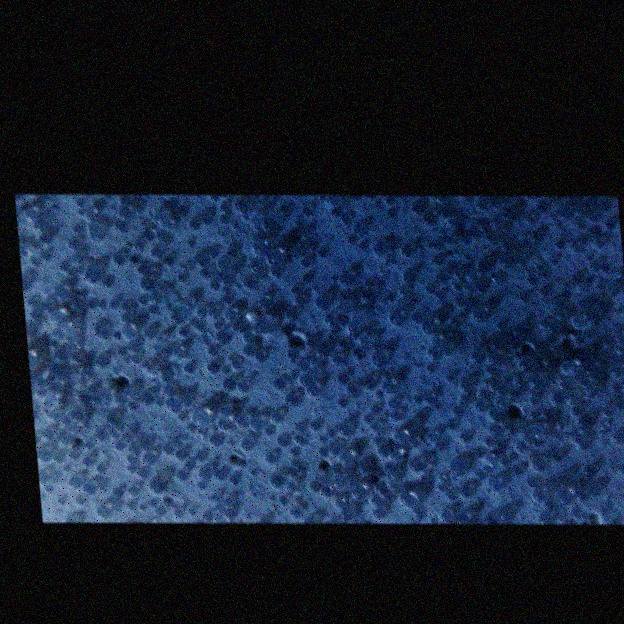GrassBeadSeg: (38, 199, 603, 495), (100, 239, 589, 510), (127, 255, 598, 524), (182, 221, 527, 500), (67, 239, 581, 416), (127, 256, 502, 489), (155, 233, 452, 520), (232, 221, 612, 445), (198, 203, 545, 447), (138, 236, 528, 453), (218, 202, 623, 410), (66, 299, 478, 502), (209, 194, 546, 440), (329, 243, 623, 519), (115, 254, 467, 476), (163, 208, 623, 377), (70, 225, 435, 433), (357, 194, 623, 476), (220, 309, 565, 524), (160, 255, 623, 403), (116, 212, 389, 458), (316, 240, 563, 508), (135, 265, 581, 413), (149, 219, 456, 429), (56, 268, 332, 497), (241, 277, 539, 488), (156, 306, 450, 511), (113, 366, 595, 488), (110, 256, 483, 412), (194, 254, 455, 476), (173, 351, 512, 521), (382, 198, 610, 448), (69, 216, 450, 363), (84, 209, 598, 317), (295, 194, 597, 377), (254, 240, 526, 438), (148, 277, 423, 472), (412, 242, 623, 491), (225, 250, 551, 410), (410, 203, 586, 496), (276, 267, 503, 490), (203, 248, 400, 498), (133, 201, 507, 329), (270, 289, 522, 476), (408, 223, 614, 447), (221, 351, 544, 493), (347, 328, 620, 494), (224, 315, 565, 447), (49, 312, 623, 390), (67, 384, 467, 489), (235, 214, 436, 421), (50, 260, 556, 339), (359, 325, 592, 496), (182, 215, 437, 369), (155, 199, 339, 407), (138, 215, 551, 304), (337, 214, 502, 436), (171, 299, 622, 378), (208, 299, 354, 520), (136, 394, 515, 479), (328, 207, 425, 520), (216, 273, 614, 349), (230, 275, 534, 371), (324, 195, 605, 291), (385, 210, 524, 403), (175, 207, 318, 393), (218, 216, 500, 305), (95, 222, 306, 338), (268, 377, 472, 496), (376, 380, 545, 518), (67, 203, 548, 251), (147, 386, 358, 494), (210, 437, 546, 502), (155, 250, 273, 435), (104, 228, 479, 286), (486, 236, 592, 439), (137, 277, 300, 407), (77, 208, 604, 248), (382, 275, 576, 379), (182, 236, 453, 310), (252, 319, 578, 376), (241, 272, 448, 360), (313, 240, 565, 310), (152, 243, 313, 351), (191, 210, 353, 315), (65, 293, 505, 330), (340, 405, 468, 523), (351, 219, 528, 302), (40, 220, 305, 275), (66, 300, 361, 348), (93, 429, 293, 497), (371, 402, 486, 519), (90, 209, 181, 352), (206, 309, 299, 444), (399, 246, 496, 375), (452, 296, 553, 419), (82, 254, 599, 278), (474, 284, 549, 445), (195, 456, 559, 488), (237, 415, 368, 499), (41, 376, 208, 440), (373, 406, 610, 451), (406, 350, 481, 490), (110, 306, 160, 498), (241, 416, 343, 507), (397, 401, 497, 493), (438, 343, 533, 438), (119, 221, 209, 320), (223, 330, 370, 390), (383, 449, 490, 523), (469, 380, 584, 448), (400, 272, 537, 329), (82, 242, 268, 283), (370, 297, 409, 492), (66, 206, 173, 276), (246, 207, 369, 264), (338, 274, 396, 394), (436, 278, 484, 417), (366, 198, 493, 249), (96, 439, 180, 516), (269, 410, 351, 487), (542, 380, 590, 511), (423, 285, 520, 349), (129, 344, 203, 427), (563, 340, 623, 437), (82, 209, 135, 312), (304, 374, 401, 430), (279, 325, 324, 444), (574, 317, 600, 502), (96, 367, 185, 420), (511, 427, 571, 505), (288, 450, 355, 517), (426, 285, 470, 387), (258, 319, 526, 335), (229, 458, 320, 505), (284, 315, 346, 383), (36, 433, 95, 504), (300, 208, 395, 251), (184, 429, 237, 501), (53, 348, 129, 396), (371, 437, 448, 483), (124, 452, 204, 496), (243, 421, 297, 486), (142, 330, 194, 394), (262, 219, 349, 257), (293, 309, 487, 326), (203, 330, 224, 487), (109, 385, 191, 425), (30, 305, 83, 366), (579, 409, 609, 514), (335, 448, 391, 501), (299, 246, 370, 287), (81, 464, 135, 517), (288, 314, 343, 366), (154, 329, 217, 374), (54, 293, 129, 330), (155, 319, 208, 371), (62, 442, 153, 472), (436, 452, 507, 490), (354, 477, 450, 505), (19, 209, 83, 251), (233, 198, 275, 262), (111, 465, 163, 515), (577, 407, 609, 488), (550, 396, 590, 460), (62, 413, 130, 450), (190, 461, 231, 521), (178, 453, 217, 515), (169, 275, 218, 324), (47, 354, 80, 426), (39, 452, 89, 499), (134, 244, 185, 290), (327, 443, 397, 475), (232, 199, 286, 240), (371, 376, 401, 444), (387, 213, 440, 250), (454, 248, 500, 290), (300, 210, 355, 245), (231, 284, 301, 311), (42, 411, 79, 460), (147, 427, 200, 461), (329, 450, 365, 498), (335, 354, 389, 385), (334, 278, 406, 301), (33, 354, 62, 409), (362, 418, 399, 461), (493, 399, 536, 436), (571, 291, 614, 328), (220, 286, 299, 306), (477, 202, 532, 230), (27, 299, 103, 319), (41, 255, 82, 291), (338, 291, 369, 338), (125, 229, 159, 270), (471, 382, 506, 420), (308, 396, 347, 430), (239, 435, 286, 463), (549, 328, 623, 345), (287, 236, 466, 243), (32, 220, 103, 237), (336, 412, 386, 436), (208, 401, 246, 432), (253, 351, 283, 390), (525, 211, 566, 239), (20, 251, 80, 270), (425, 346, 453, 380), (275, 436, 305, 466), (241, 214, 297, 230), (492, 375, 540, 393), (529, 378, 561, 403), (565, 378, 595, 403), (95, 325, 125, 349), (121, 295, 146, 323), (368, 340, 387, 376), (76, 230, 101, 257), (577, 277, 598, 307), (483, 353, 503, 384), (503, 213, 590, 220), (374, 391, 397, 417), (178, 394, 217, 409), (538, 220, 583, 233), (112, 221, 174, 230), (222, 309, 244, 333), (499, 199, 507, 255), (455, 239, 468, 272), (77, 386, 99, 405), (219, 265, 237, 288), (556, 476, 579, 494), (553, 315, 583, 328), (452, 273, 478, 288), (241, 324, 253, 356), (300, 273, 335, 283), (116, 341, 139, 356), (289, 284, 305, 305), (505, 213, 553, 220), (113, 225, 151, 233), (342, 281, 372, 291), (244, 262, 276, 271), (301, 377, 316, 395), (599, 288, 612, 305), (459, 379, 472, 391), (470, 350, 482, 363), (569, 508, 583, 519), (275, 240, 286, 254), (573, 208, 592, 215), (427, 433, 438, 443), (358, 336, 368, 347), (61, 288, 69, 300), (577, 317, 586, 327), (529, 232, 539, 241), (129, 325, 135, 338), (452, 271, 461, 279), (462, 273, 476, 278), (224, 334, 231, 344), (401, 431, 407, 442), (481, 441, 493, 446), (32, 227, 44, 232), (584, 212, 592, 219), (576, 210, 581, 221), (287, 244, 293, 253), (298, 374, 303, 383), (372, 384, 376, 388)
